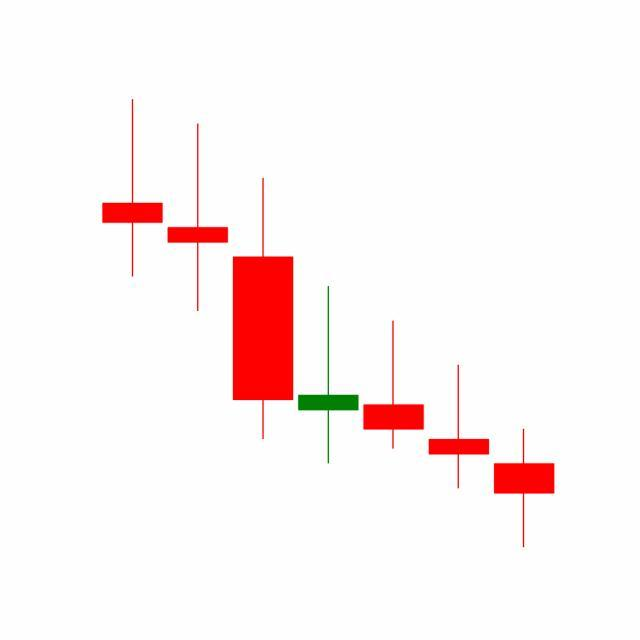Hikkake Pattern: (165, 121, 492, 493)
